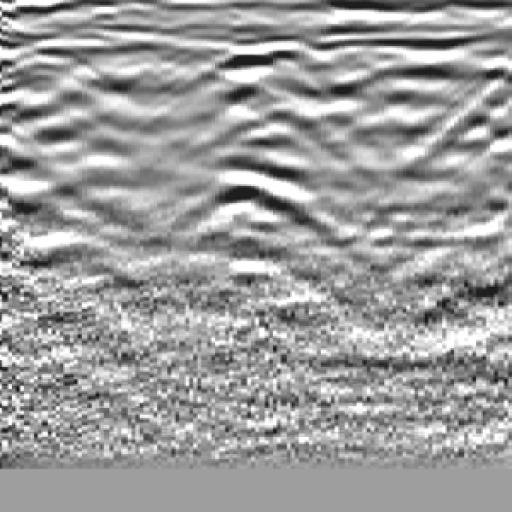metalic: (196, 30, 332, 311)
nonmetalic: (418, 25, 512, 316)
